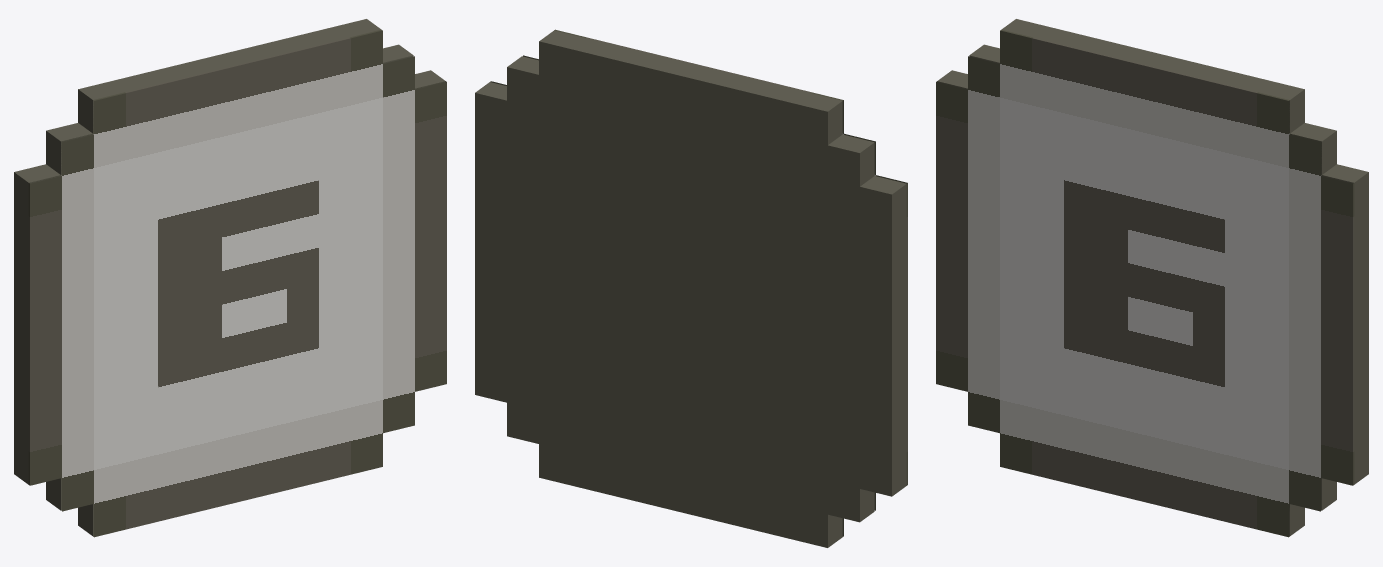
The model's file is CMU3DSemioticSix.glb.
3 views of the same model, side by side, from view 1: azimuth 30°, elevation 25°; view 2: azimuth 150°, elevation 25°; view 3: azimuth 330°, elevation 25° (orthographic).
Visible parts, largest first — view 1: original printed face, clipped metal plate backing (×3); view 2: clipped metal plate backing (×5), original printed face; view 3: original printed face, clipped metal plate backing (×3).
Part boxes in pixels (left/top/right/bottom): original printed face: left=28, top=29, right=446, bottom=537; clipped metal plate backing (×3): left=14, top=19, right=445, bottom=484; clipped metal plate backing (×5): left=475, top=30, right=906, bottom=547; original printed face: left=490, top=29, right=907, bottom=536; original printed face: left=936, top=29, right=1354, bottom=537; clipped metal plate backing (×3): left=937, top=19, right=1368, bottom=484.
Size of the model in its own units: 0.4062 by 0.4062 by 0.027.
2 materials, 1 textured.
